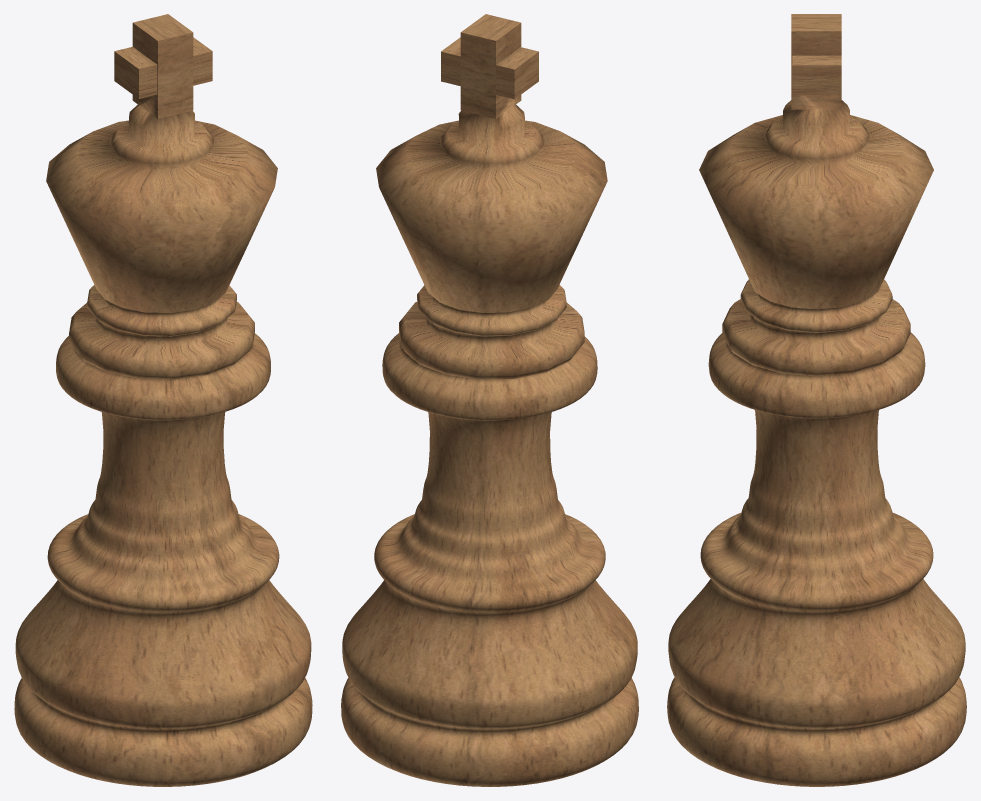
Rendered from 白キング.fbx.
The picture shows the model from 3 angles, left to right: view 1: azimuth 30°, elevation 25°; view 2: azimuth 150°, elevation 25°; view 3: azimuth 270°, elevation 25°; orthographic projection.
Visible parts, largest first — view 1: 白キング; view 2: 白キング; view 3: 白キング.
Boxes of the visible parts, box(x1,y1,x2,y2) form: 白キング: box(14, 14, 312, 786); 白キング: box(341, 14, 638, 786); 白キング: box(667, 14, 966, 786).
Bounding box in the file's own units: 2.5 × 6.55 × 2.5.
